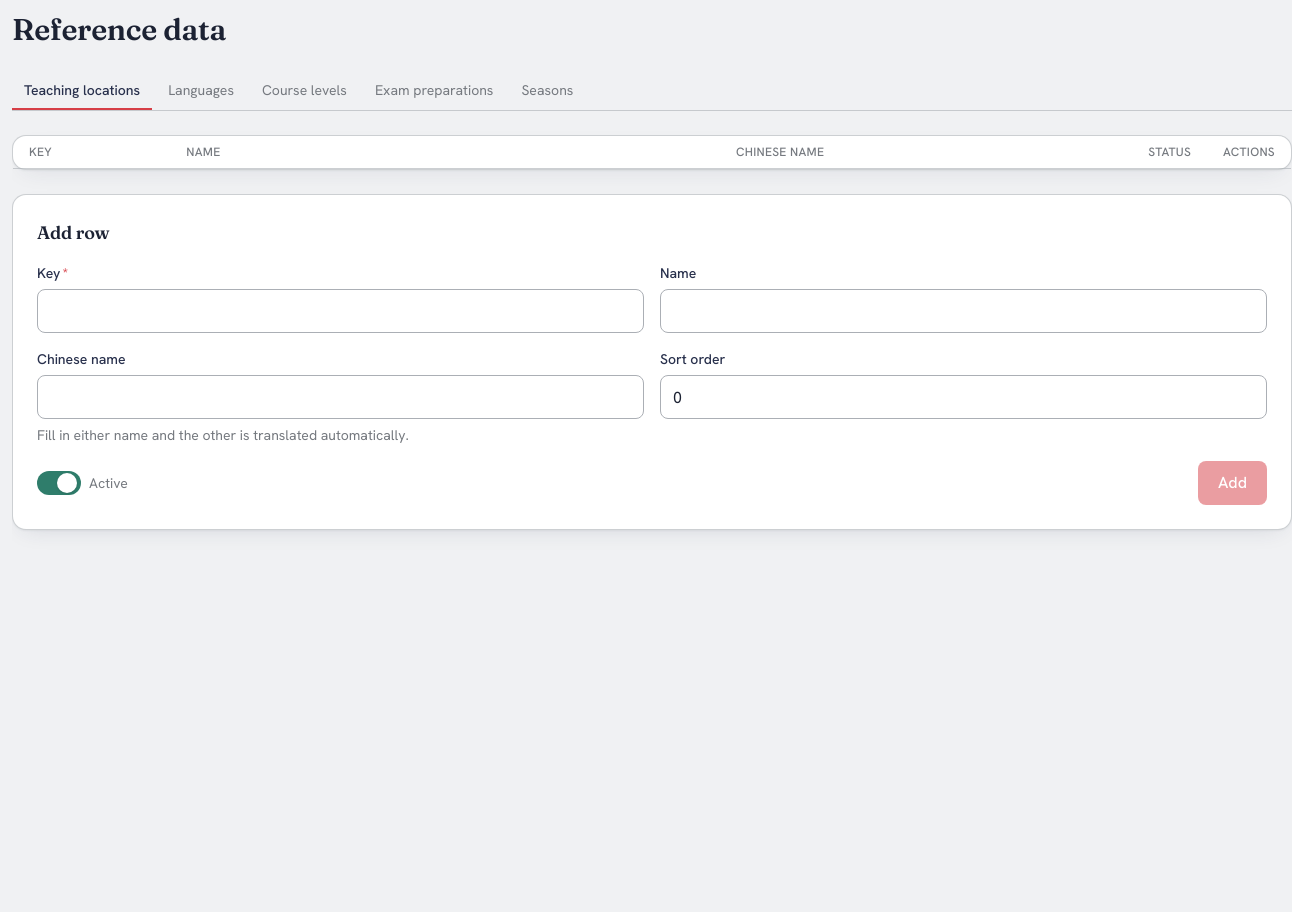
it: ReferenceManagerPage seasons › lists seasons newest first with dates and the current one marked
Step 1. Click the button "Seasons" → [547, 91], box top-left (510, 72), bottom-right (585, 110)
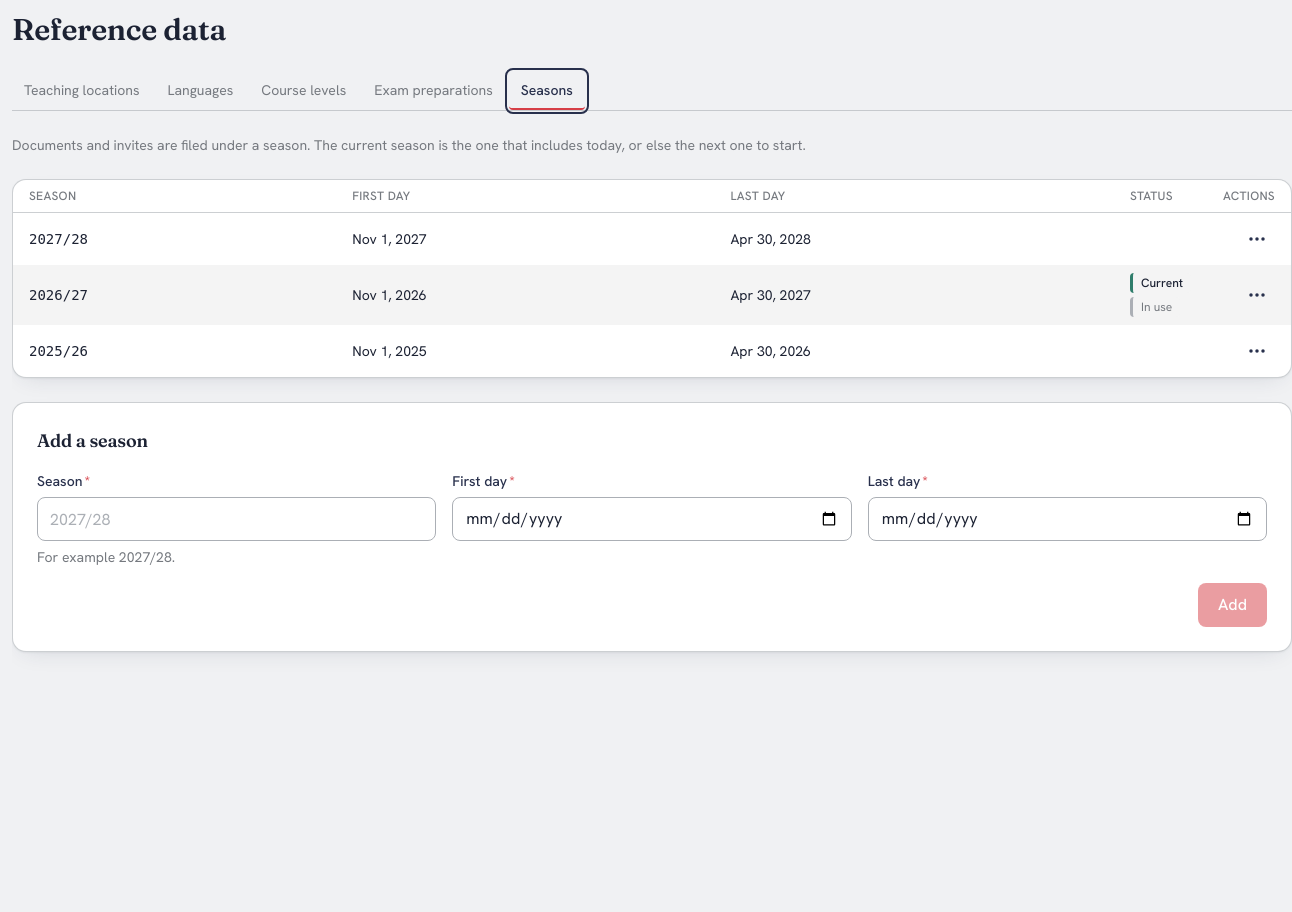
expect the row "2025/26 Nov 1, 2025 Apr 30, 2026" does not show "Current": met, box top-left (13, 325), bottom-right (1291, 377)
expect the column headings read "Season", "First day", "Last day", "Status", "Actions", in this order: met, box top-left (13, 180), bottom-right (336, 212); top-left (336, 180), bottom-right (714, 212); top-left (714, 180), bottom-right (1114, 212); top-left (1114, 180), bottom-right (1207, 212); top-left (1207, 180), bottom-right (1291, 212)
expect the row "2027/28 Nov 1, 2027 Apr 30, 2028" is shown: met, box top-left (13, 212), bottom-right (1291, 265)
